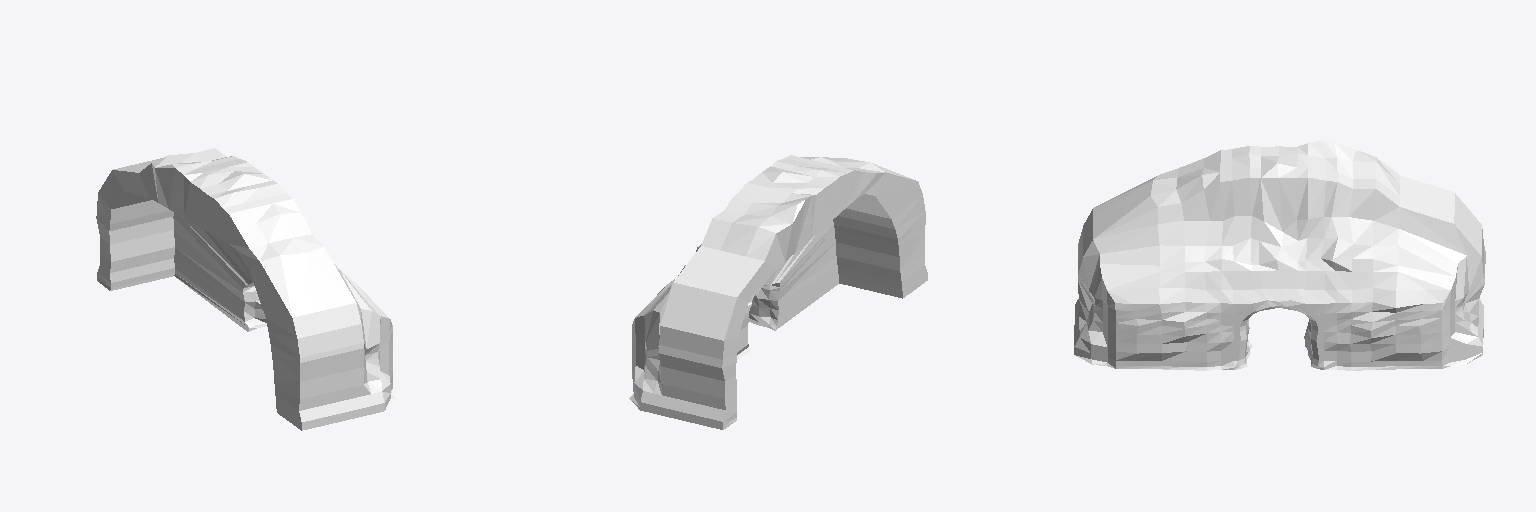
The model's file is cave_entrance.obj.
The picture shows the model from 3 angles: view 1: azimuth 30°, elevation 25°; view 2: azimuth 150°, elevation 25°; view 3: azimuth 270°, elevation 25°; orthographic projection.
Parts seen in each view (by area): view 1: entrance; view 2: entrance; view 3: entrance.
Part boxes in pixels (x1,y1,x2,y2): entrance: (96,148,395,430); entrance: (629,155,927,429); entrance: (1074,140,1485,370).
Bounding box in the file's own units: 2379 × 3132 × 6729.